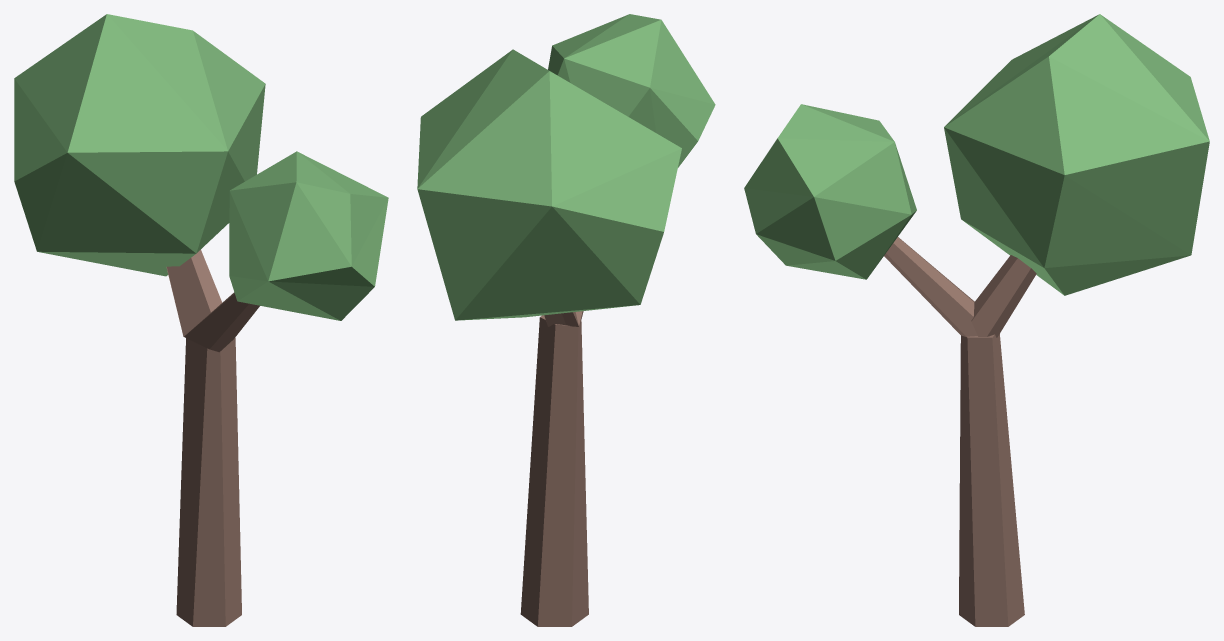
The model's file is low_poly_tree_2.fbx.
3 renders of one model, left to right at view 1: azimuth 30°, elevation 25°; view 2: azimuth 150°, elevation 25°; view 3: azimuth 270°, elevation 25°, orthographic. The views are drawn at different scales.
Visible parts, largest first — view 1: Tree; view 2: Tree; view 3: Tree.
Boxes of the visible parts, left/top/right/bottom form: Tree: left=14, top=14, right=388, bottom=626; Tree: left=417, top=14, right=715, bottom=626; Tree: left=744, top=14, right=1209, bottom=626.
Size of the model in its own units: 207 by 468 by 343.
